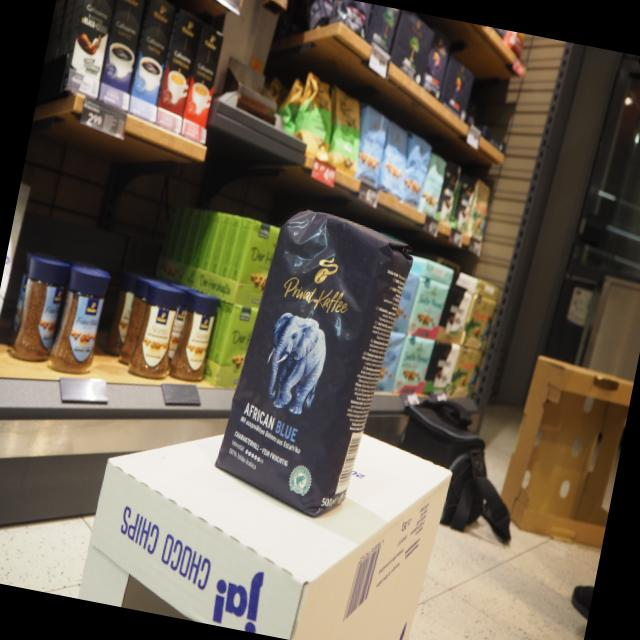AB Bohne: (212, 190, 423, 537)
